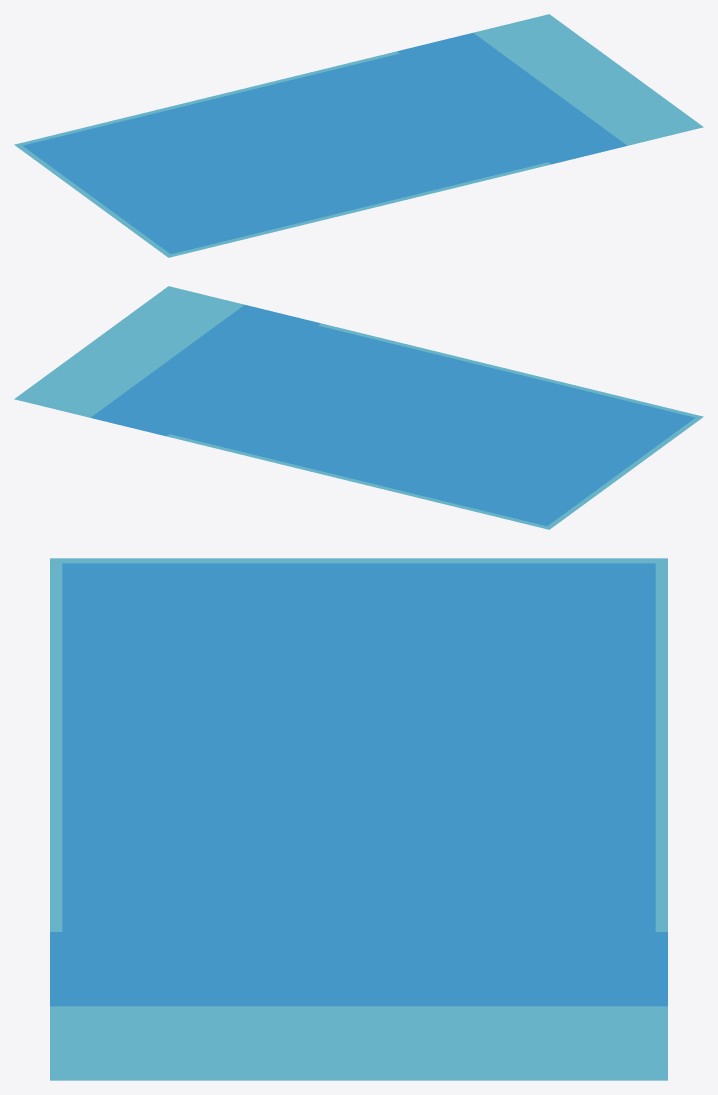
The model's file is plane_ground_p02.FBX.
3 renders of one model, top to bottom at view 1: azimuth 30°, elevation 25°; view 2: azimuth 150°, elevation 25°; view 3: azimuth 270°, elevation 25°, orthographic. The views are drawn at different scales.
Parts seen in each view (by area): view 1: plane_ground_p02; view 2: plane_ground_p02; view 3: plane_ground_p02.
Part boxes in pixels (x1,y1,x2,y2): plane_ground_p02: [14, 14, 703, 257]; plane_ground_p02: [14, 286, 703, 529]; plane_ground_p02: [50, 558, 667, 1080].
Bounding box in the file's own units: 2000 × 1000 × 0.000521.
Materials: 1 (1 with a texture image).
